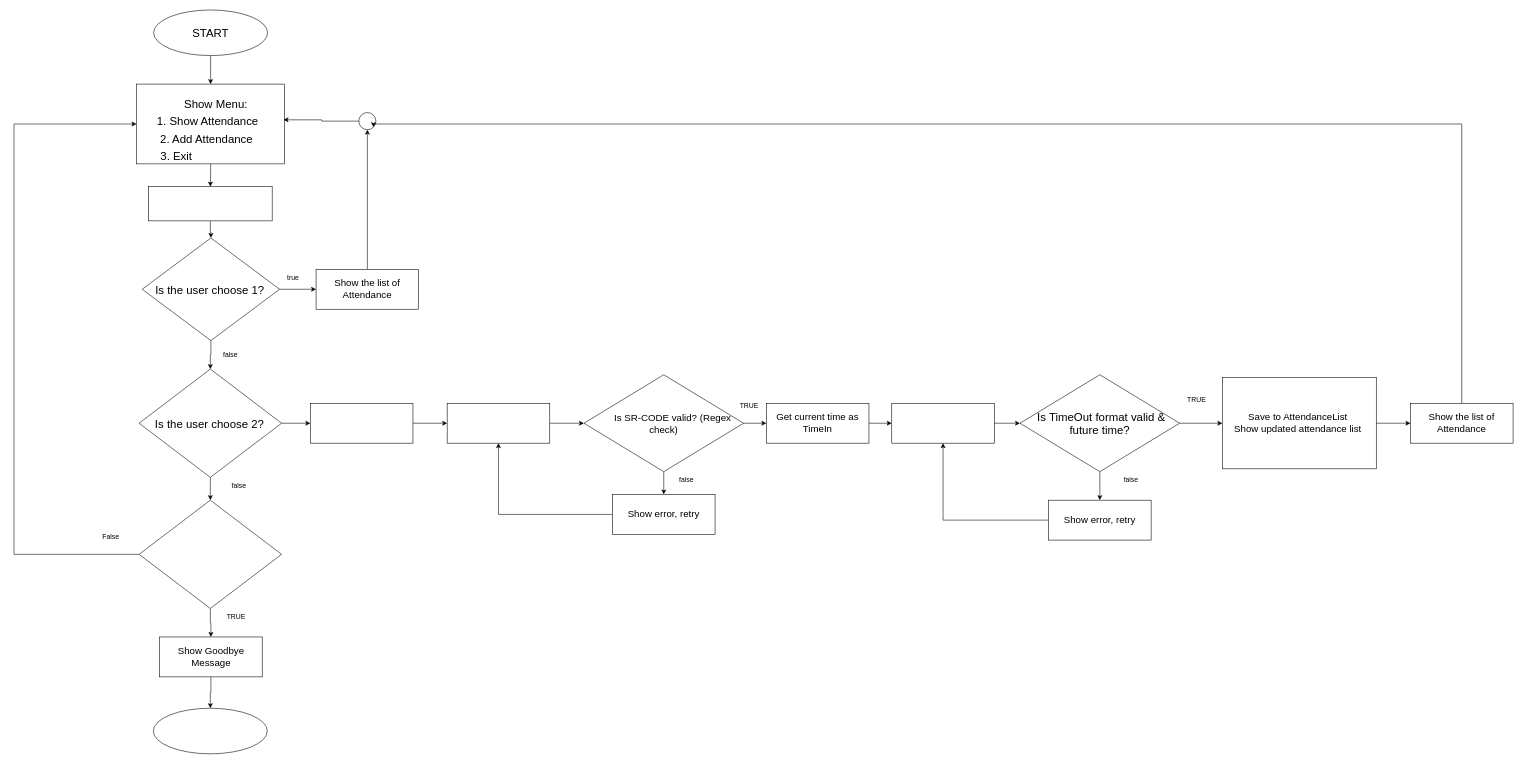
This 1523x764 diagram has some shape labels left out. Each missing label, with the centre of its shape:
Add Attendance: pixel 361 423
Ask for Name Aask for SR-CODE Format: 24-43123: pixel 498 423
Ask for TimeOut (HH:MM AM/PM): pixel 942 423
END: pixel 210 731
Is the user choose 3?: pixel 210 554
User inputs choice: pixel 210 203
